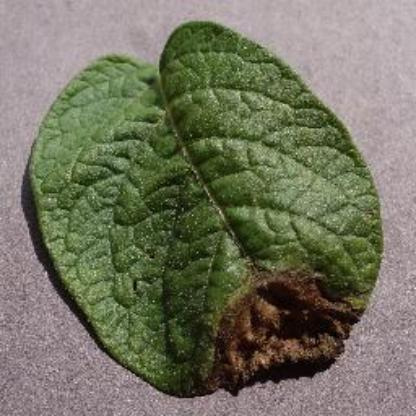Late-Blight: (20, 16, 378, 408)
